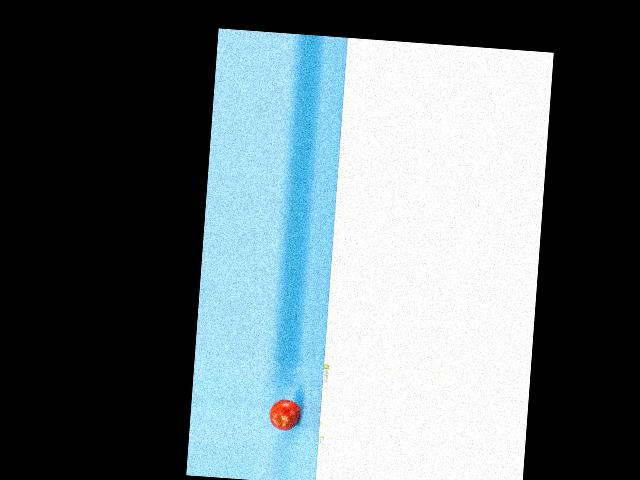tomato: (268, 398, 300, 432)
